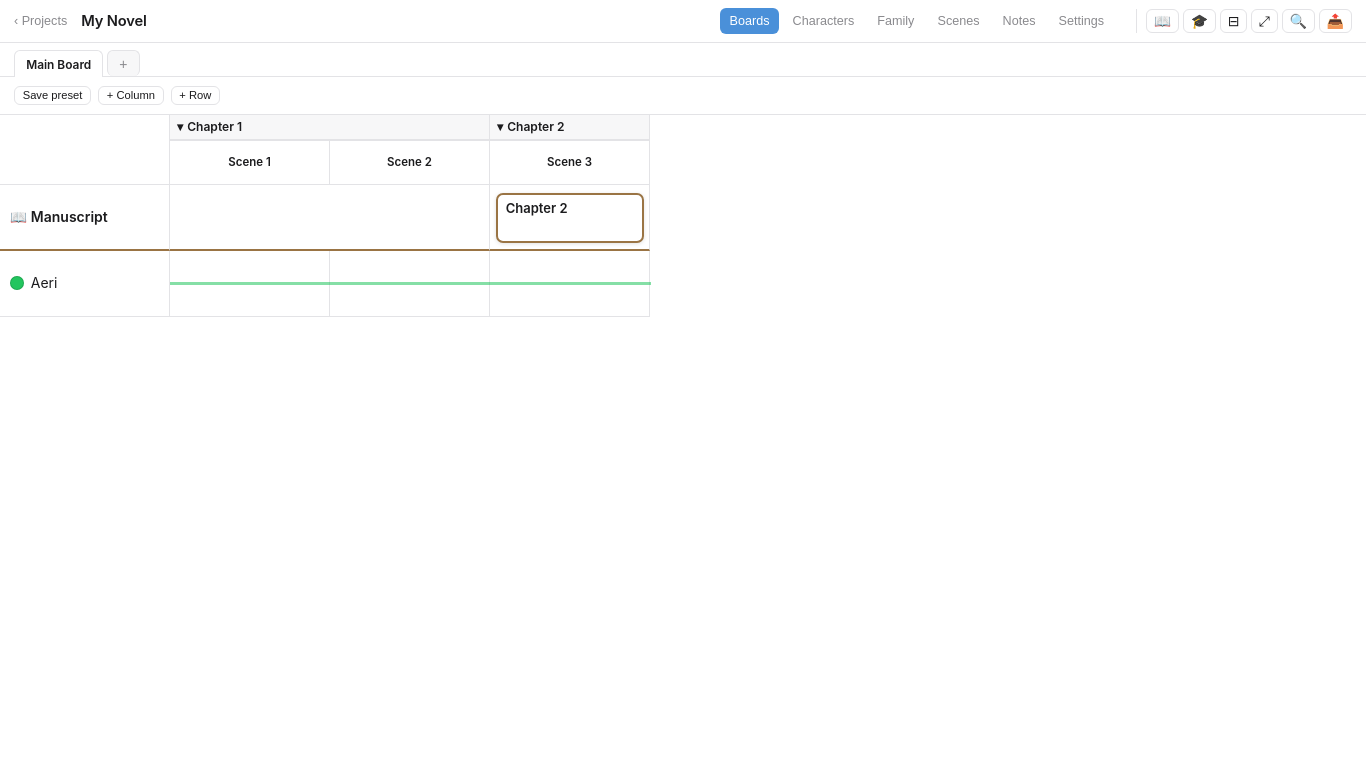
the Manuscript row on the board (#204) › starts a chapter from its empty cell and opens it in the fullscreen editor
The width and height of the screenshot is (1366, 768).
Expected: the heading "My Novel" is shown, left=81, top=12, right=147, bottom=30
Click the element named "Start writing Chapter 1" at (330, 218), box left=170, top=184, right=490, bottom=250
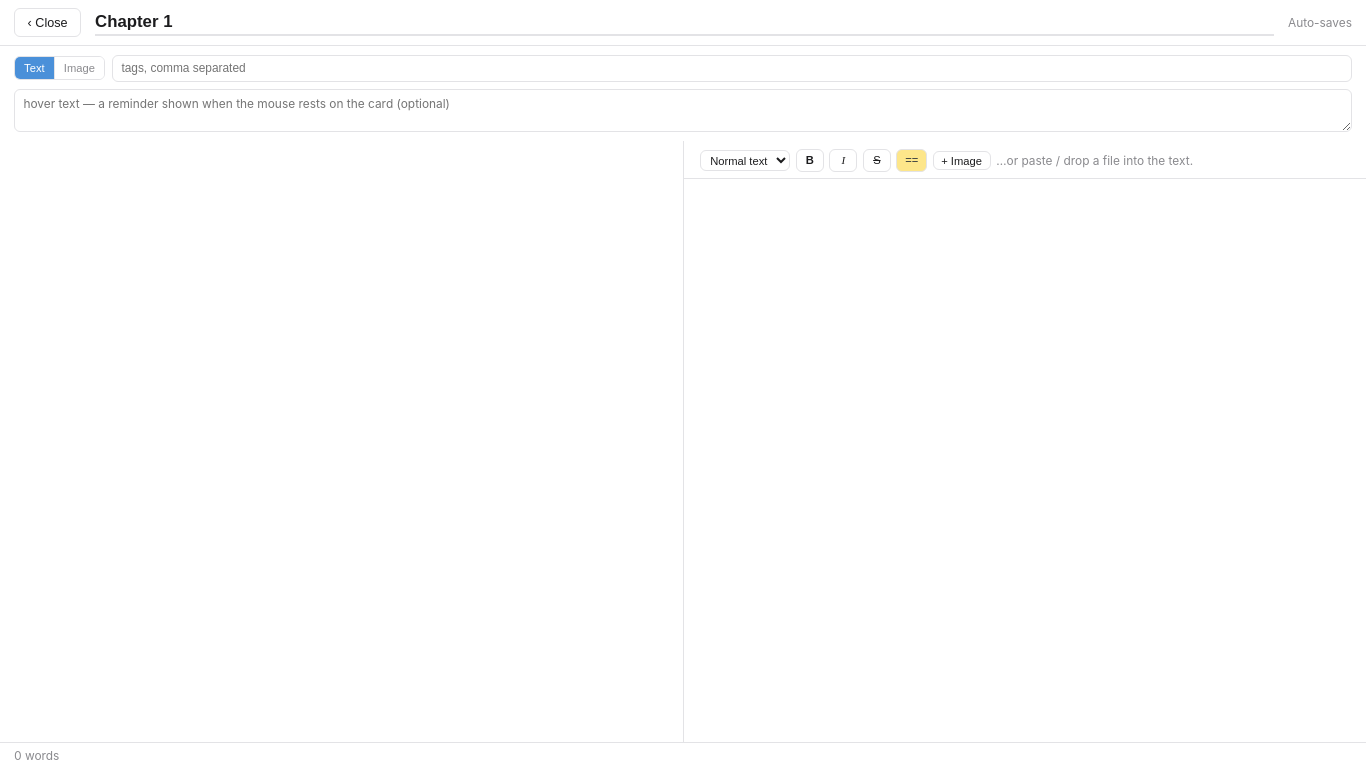
Now the text box with placeholder "Write in Markdown…" is shown, box left=684, top=179, right=1365, bottom=742
